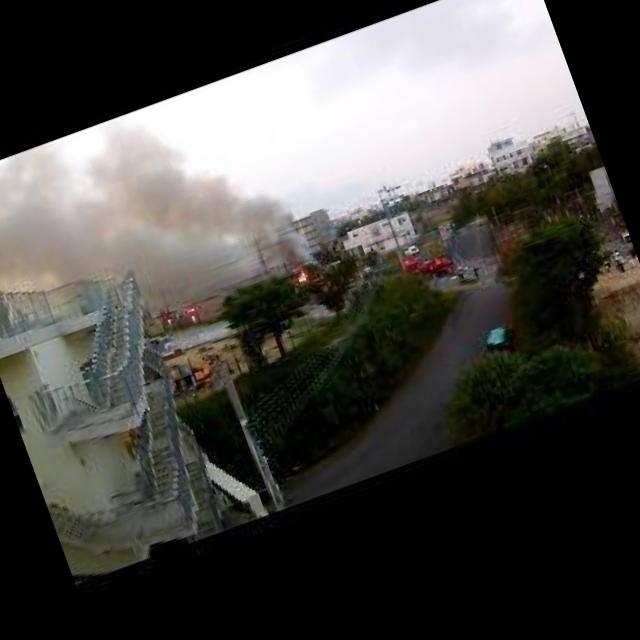fire: (297, 270, 310, 284)
smoke: (0, 80, 311, 375)
